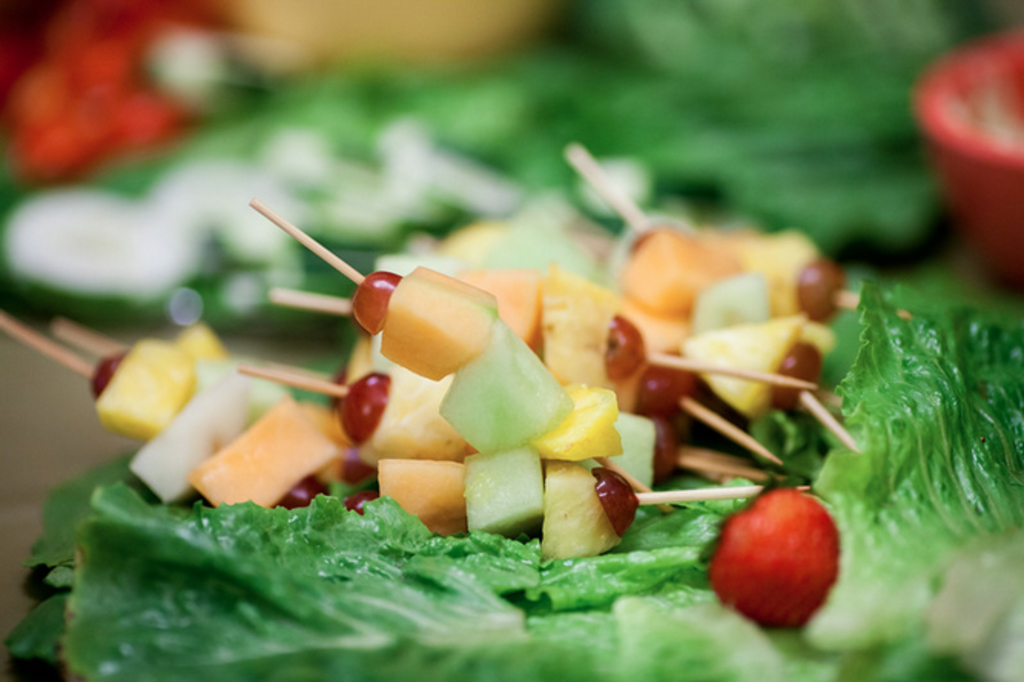salad: (0, 0, 1022, 680)
